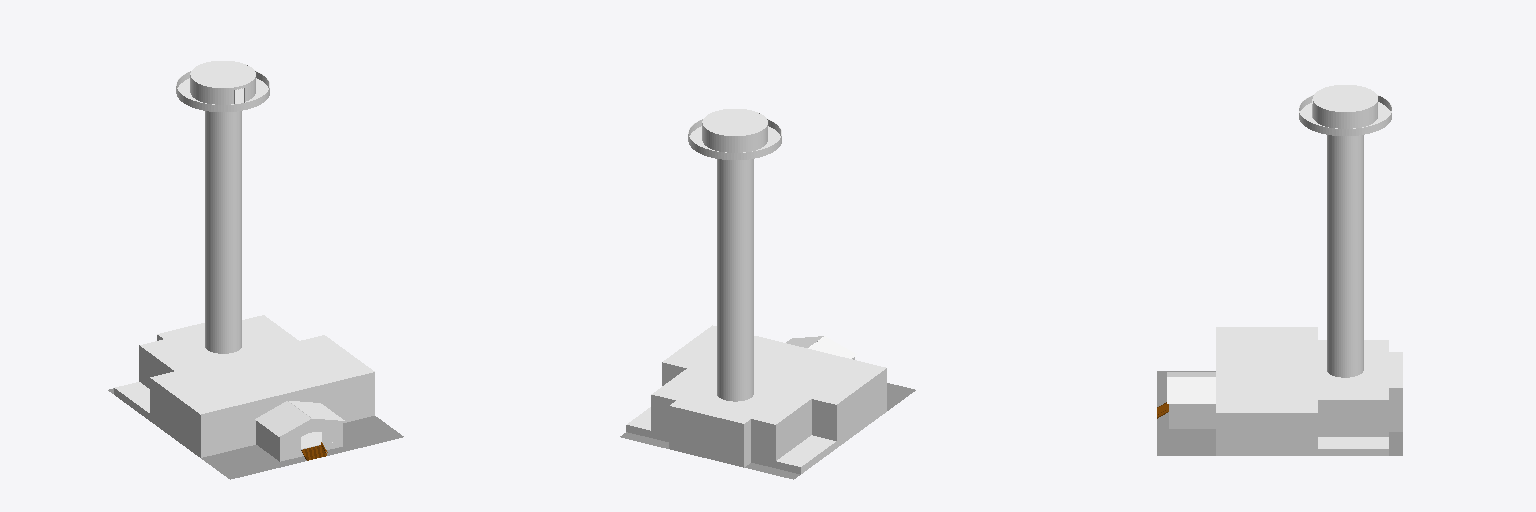
Rendered from lighthouse.obj.
3 renders of one model, left to right at view 1: azimuth 30°, elevation 25°; view 2: azimuth 150°, elevation 25°; view 3: azimuth 270°, elevation 25°, orthographic.
Visible parts, largest first — view 1: room_97_535, ground_1, wall_6_35, room_106_549, 3_3_3_736, wall_29_173, wall_24_143, wall_5_29, wall_23_137, wall_15_89, wall_84_502, wall_33_197 (+4 smaller); view 2: room_97_535, room_106_549, wall_46_274, wall_49_292, ground_1, wall_5_29, room_99_538, wall_23_137, wall_84_502, wall_21_124, wall_17_100, wall_20_119 (+4 smaller); view 3: room_97_535, ground_1, wall_30_179, wall_7_41, room_106_549, 3_3_3_742, wall_18_106, wall_22_130, wall_83_496, wall_3_17, room_100_539, wall_16_95 (+14 smaller).
Boxes of the visible parts, box(x1,y1,x2,y2) form: room_97_535: box(139, 315, 374, 414); ground_1: box(108, 388, 403, 479); wall_6_35: box(201, 391, 374, 450); room_106_549: box(191, 61, 254, 87); 3_3_3_736: box(255, 401, 311, 436); wall_29_173: box(319, 373, 374, 403); wall_24_143: box(201, 402, 256, 432); wall_5_29: box(150, 397, 200, 451); wall_23_137: box(150, 379, 200, 433); wall_15_89: box(280, 422, 342, 454); wall_84_502: box(190, 75, 239, 104); wall_33_197: box(257, 387, 318, 417); room_97_535: box(651, 325, 886, 425); room_106_549: box(703, 109, 766, 135); wall_46_274: box(669, 425, 743, 460); wall_49_292: box(669, 407, 743, 442); ground_1: box(620, 383, 915, 479); wall_5_29: box(836, 387, 886, 440); room_99_538: box(776, 435, 836, 467); wall_23_137: box(837, 369, 886, 422); wall_84_502: box(719, 125, 767, 152); wall_21_124: box(651, 395, 775, 443); wall_17_100: box(651, 414, 775, 461); wall_20_119: box(776, 400, 811, 442); room_97_535: box(1216, 327, 1388, 412); ground_1: box(1157, 371, 1402, 455); wall_30_179: box(1216, 413, 1317, 431); wall_7_41: box(1216, 432, 1316, 449); room_106_549: box(1313, 85, 1377, 111); 3_3_3_742: box(1167, 377, 1215, 403); wall_18_106: box(1318, 419, 1388, 436); wall_22_130: box(1318, 401, 1388, 418); wall_83_496: box(1313, 101, 1377, 128); wall_3_17: box(1216, 450, 1388, 455); room_100_539: box(1317, 437, 1388, 449); wall_16_95: box(1169, 404, 1215, 421).
Size of the model in its own units: 2576 by 4441 by 3136.